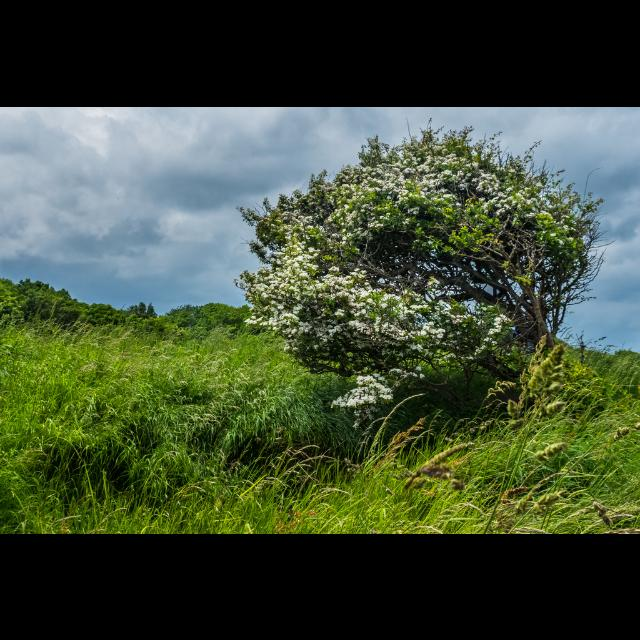Flower: (233, 140, 589, 382), (326, 373, 396, 423)
